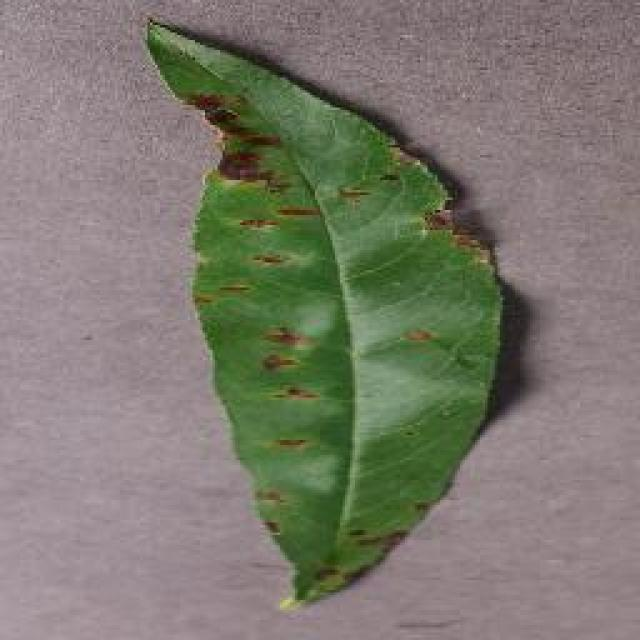Peach_Bacterial_Spot: (198, 70, 507, 418)
